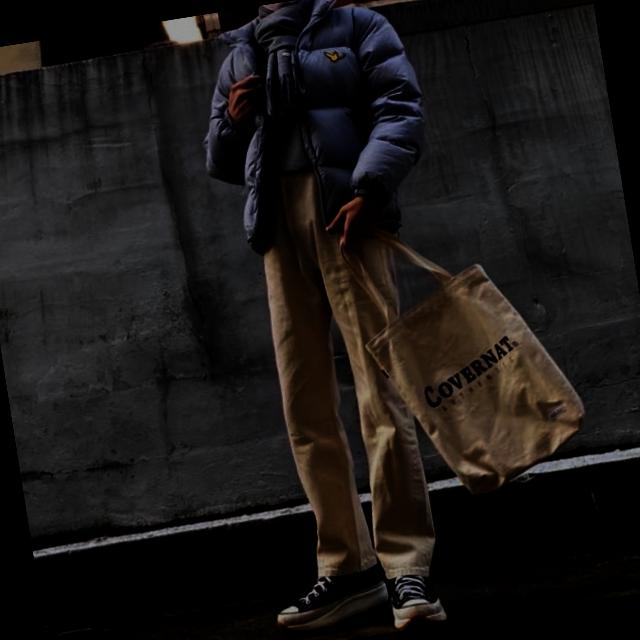cottonpants: (245, 155, 440, 600)
padding: (181, 0, 445, 257)
